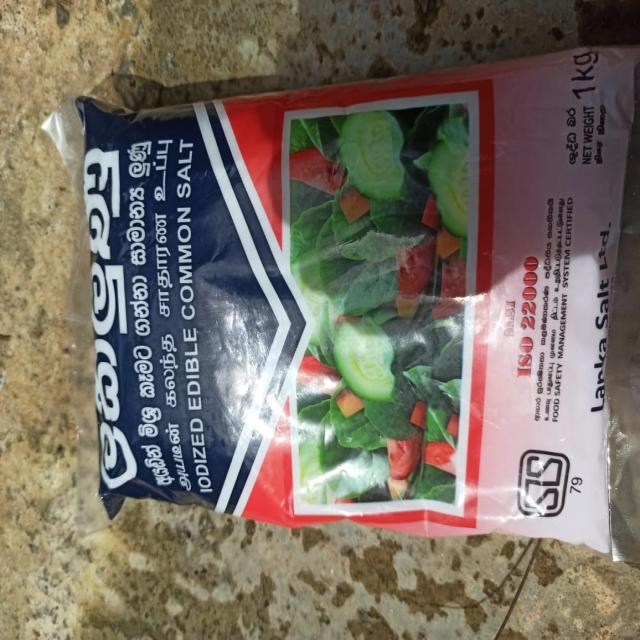Lak Lunu: (44, 70, 640, 562)
